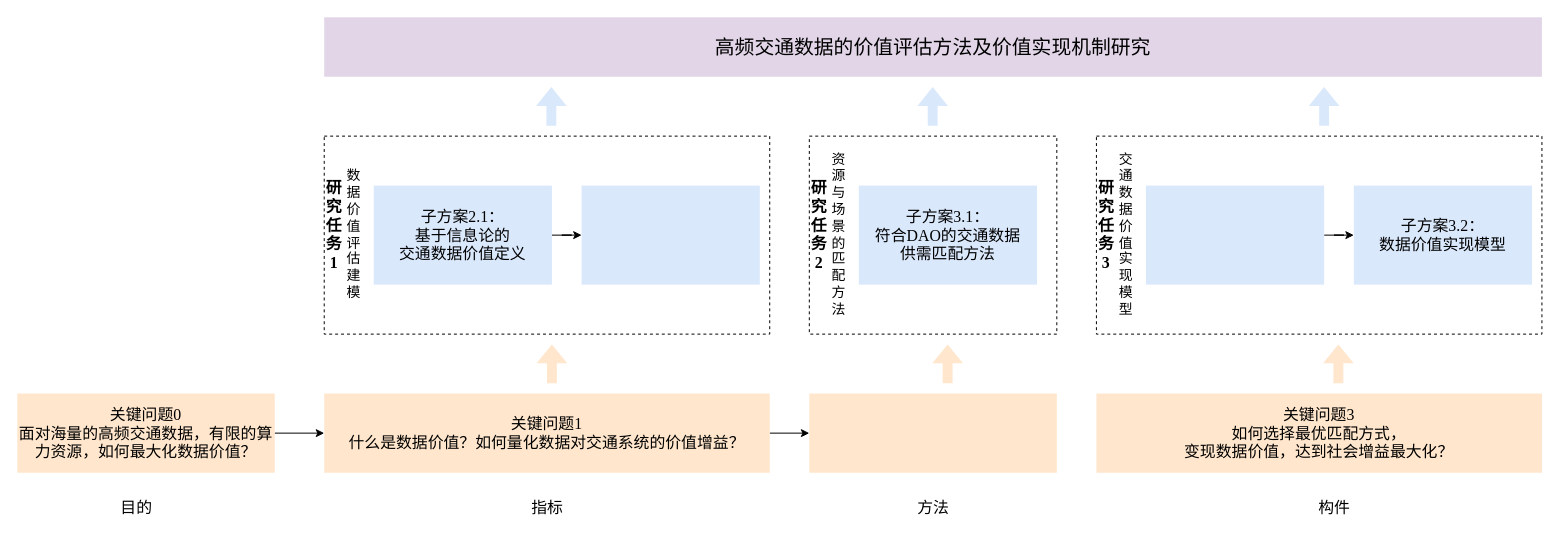
Image size: 1559x539. Some labels were removed from this diagram. The shapes that lost their labels are listed below. From the top down, each one's centre as x and y in pixels, then its label:
pixel 670 234: 子方案2.2： 基于交通系统状态优化的数据价值评估方法
pixel 1234 234: 子方案3.1： 数据激励机制构建
pixel 932 432: 关键问题2 自组织的交通系统中， 有哪些自组织的数据匹配方式？
